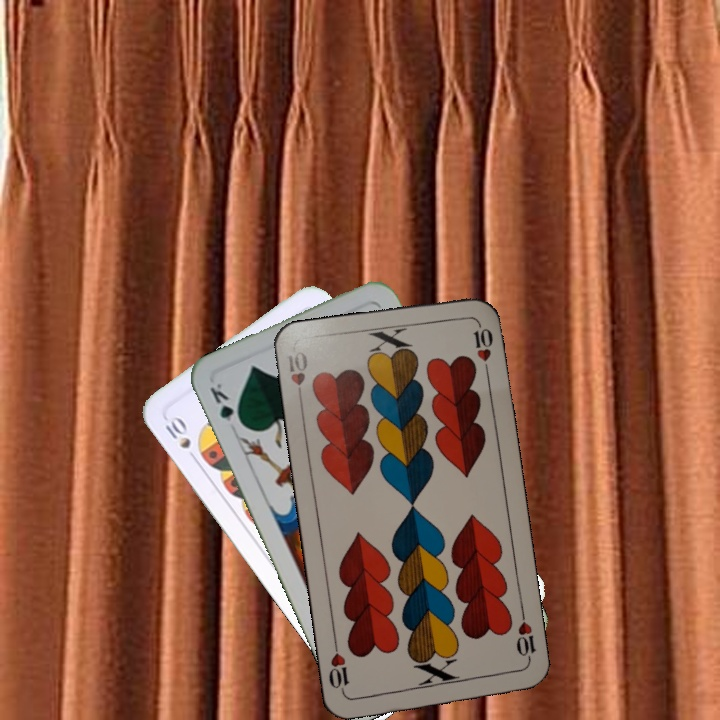GK: (205, 379, 246, 430)
H10: (282, 347, 310, 406), (512, 607, 538, 667)
S10: (159, 412, 201, 465)
